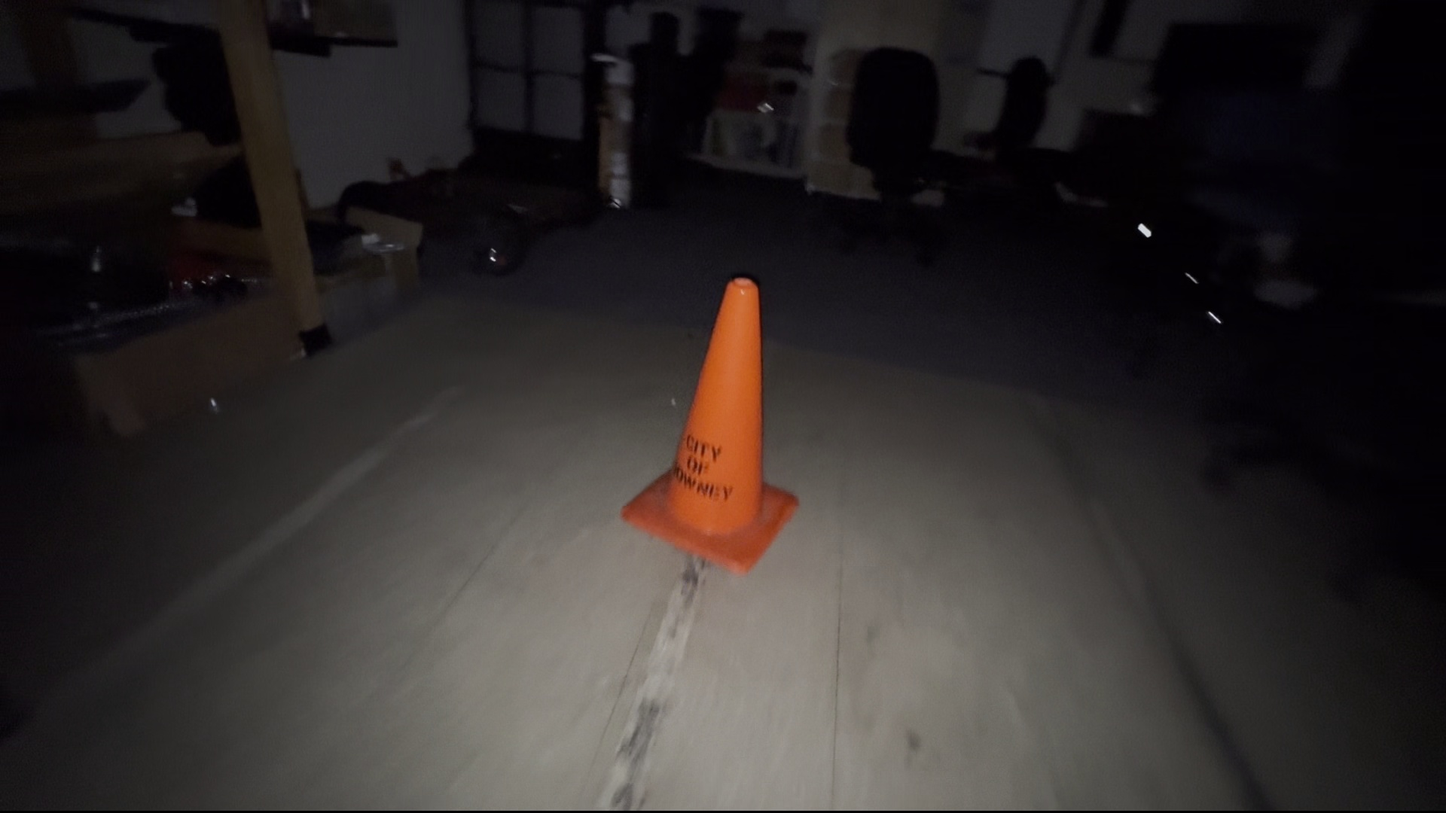traffic_cone: (620, 275, 800, 575)
